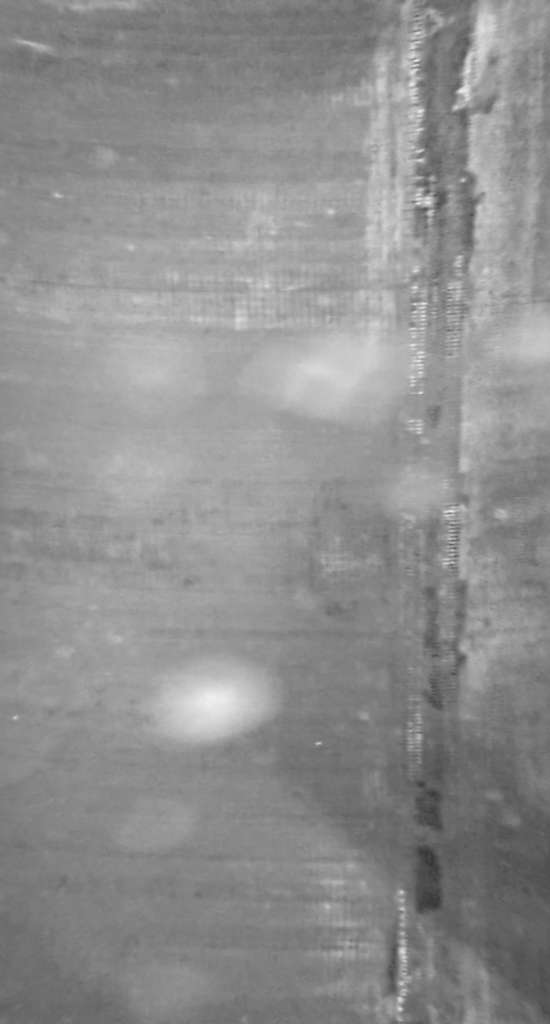splice: (391, 1, 484, 1024)
